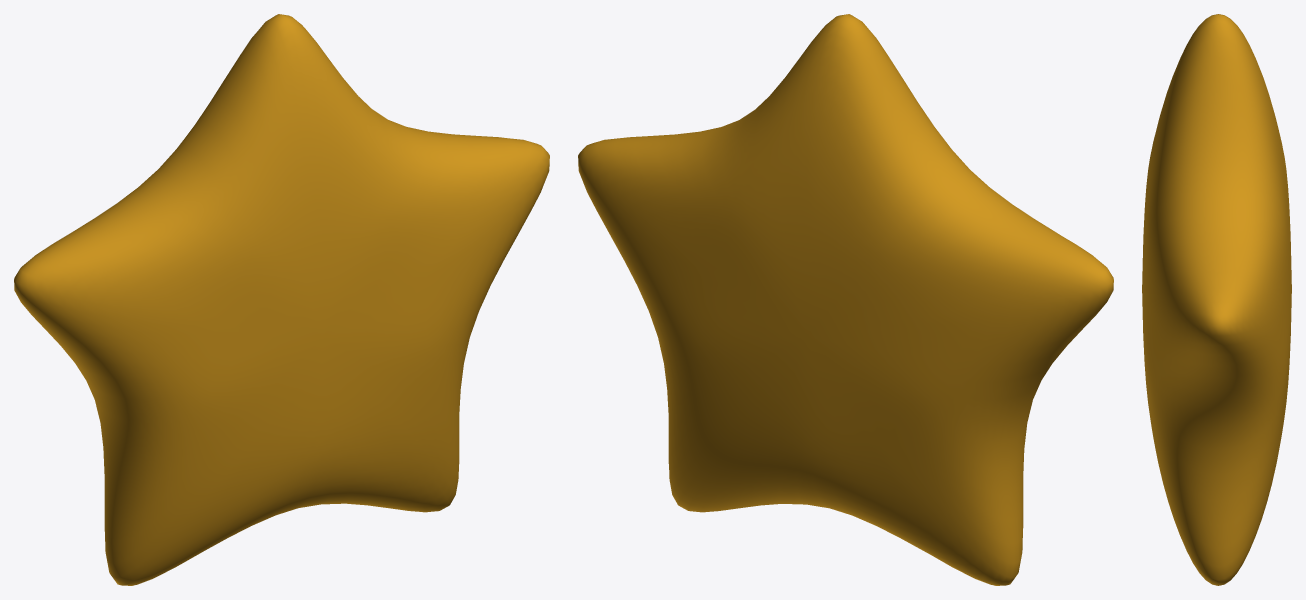
Rendered from star-icon.glb.
The picture shows the model from 3 angles, left to right: view 1: azimuth 30°, elevation 25°; view 2: azimuth 150°, elevation 25°; view 3: azimuth 270°, elevation 25°; orthographic projection. The views are drawn at different scales.
Parts seen in each view (by area): view 1: node_id4; view 2: node_id4; view 3: node_id4.
Boxes of the visible parts, x1,y1,x2,y2 form: node_id4: (14,14,549,585); node_id4: (578,14,1113,585); node_id4: (1142,14,1291,585).
Size of the model in its own units: 0.512 by 0.4896 by 0.1333.
1 material, 1 textured.
